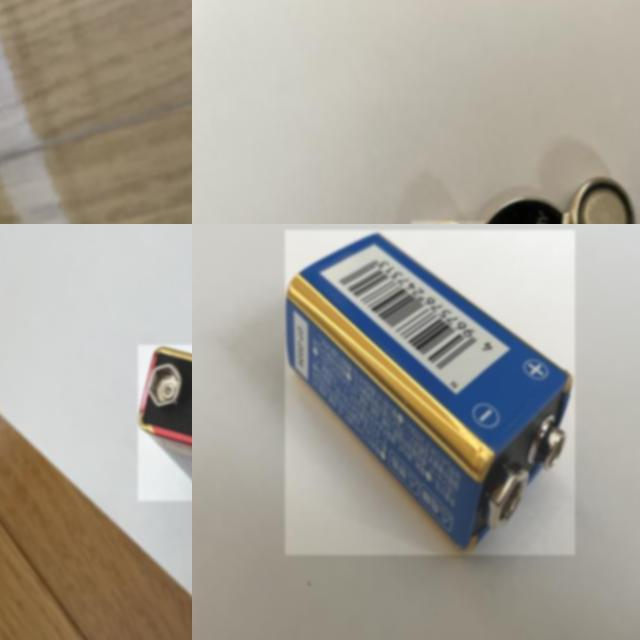9V: (285, 230, 575, 555), (138, 345, 192, 501)
